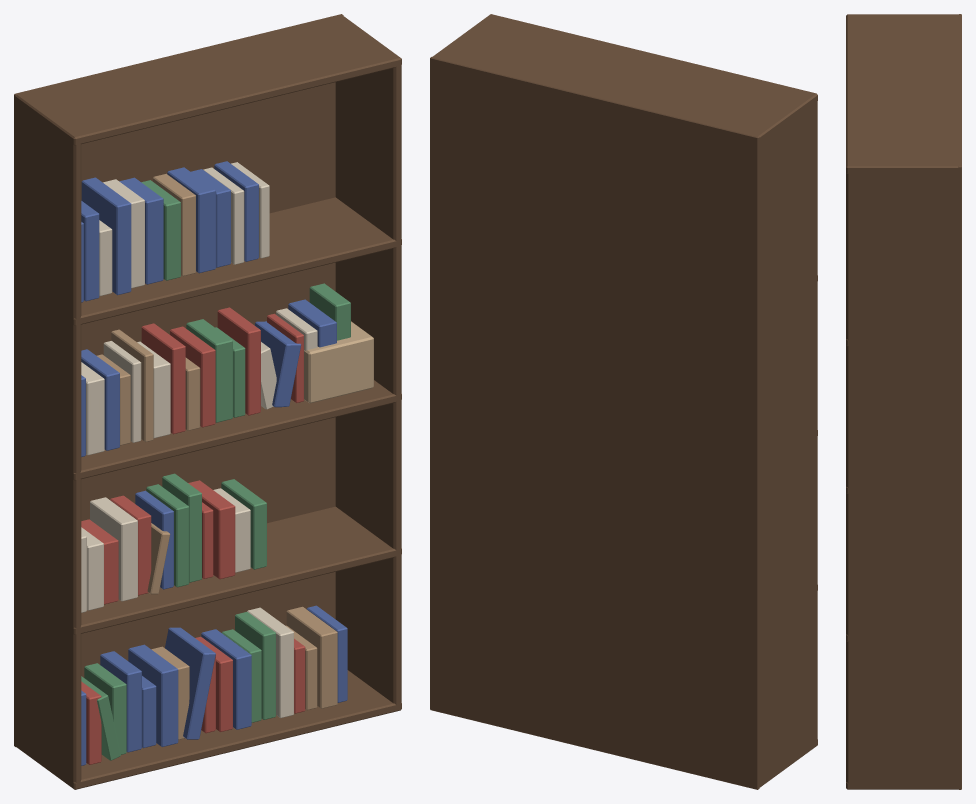
File: tall_bookcase.fbx
The picture shows the model from 3 angles, left to right: view 1: azimuth 30°, elevation 25°; view 2: azimuth 150°, elevation 25°; view 3: azimuth 270°, elevation 25°; orthographic projection. The views are drawn at different scales.
Visible parts, largest first — view 1: Bookcase; view 2: Bookcase; view 3: Bookcase.
Part boxes in pixels (x1,y1,x2,y2): Bookcase: [14, 14, 401, 789]; Bookcase: [430, 14, 817, 789]; Bookcase: [846, 14, 961, 789].
Size of the model in its own units: 1 by 1.9 by 0.32.
